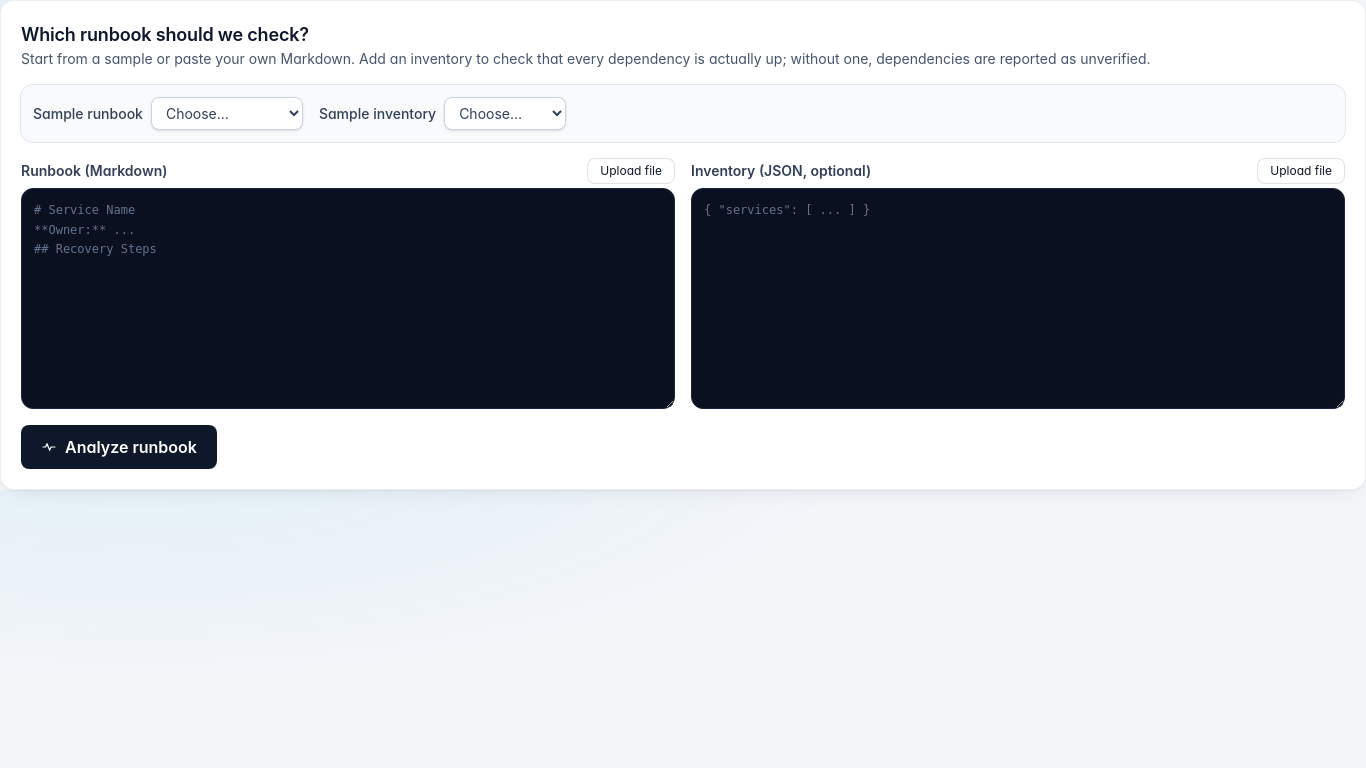
it: InputPanel › rejects an inventory that is not JSON
Type "# Svc" into the text box labelled "Runbook (Markdown)" at [348, 298], box [21,188,675,409]
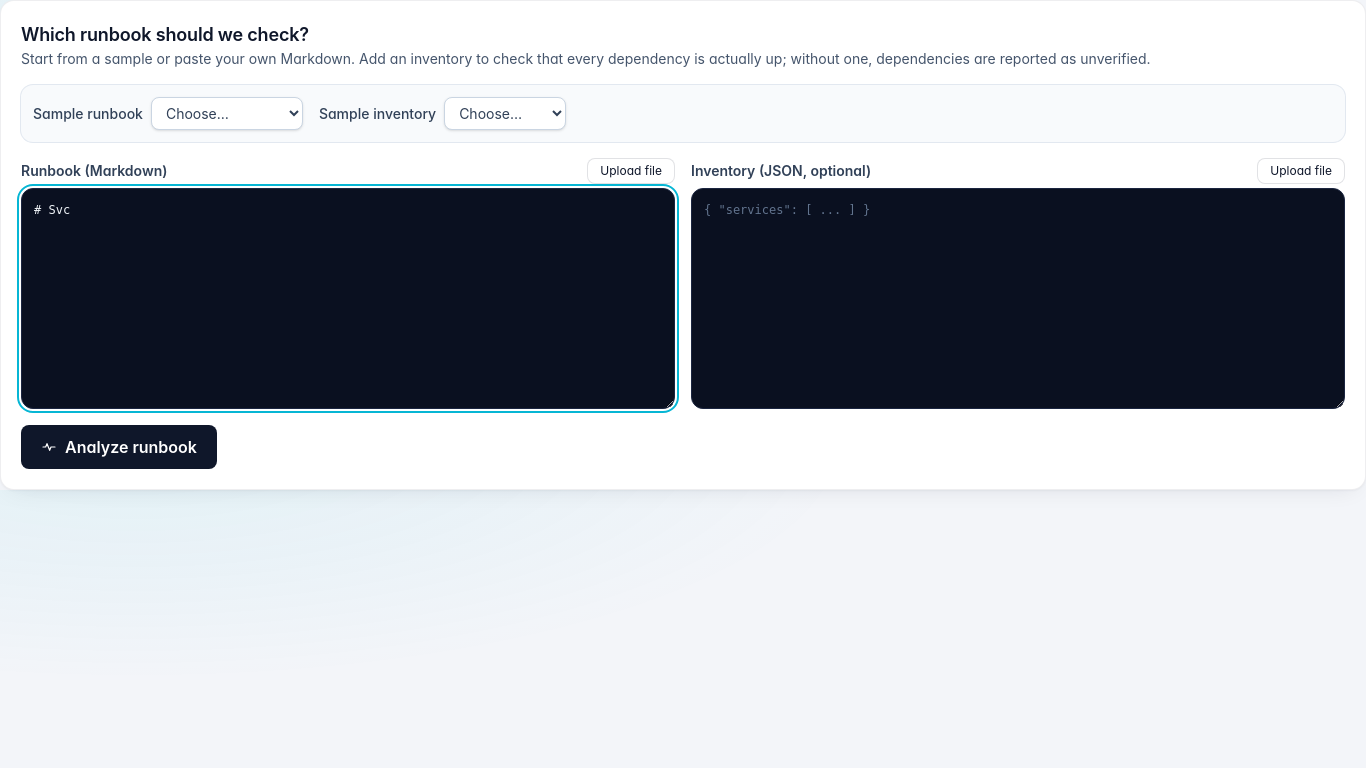
Type "not json" into the text box labelled "Inventory (JSON, optional)" at [1018, 298], box [691,188,1345,409]
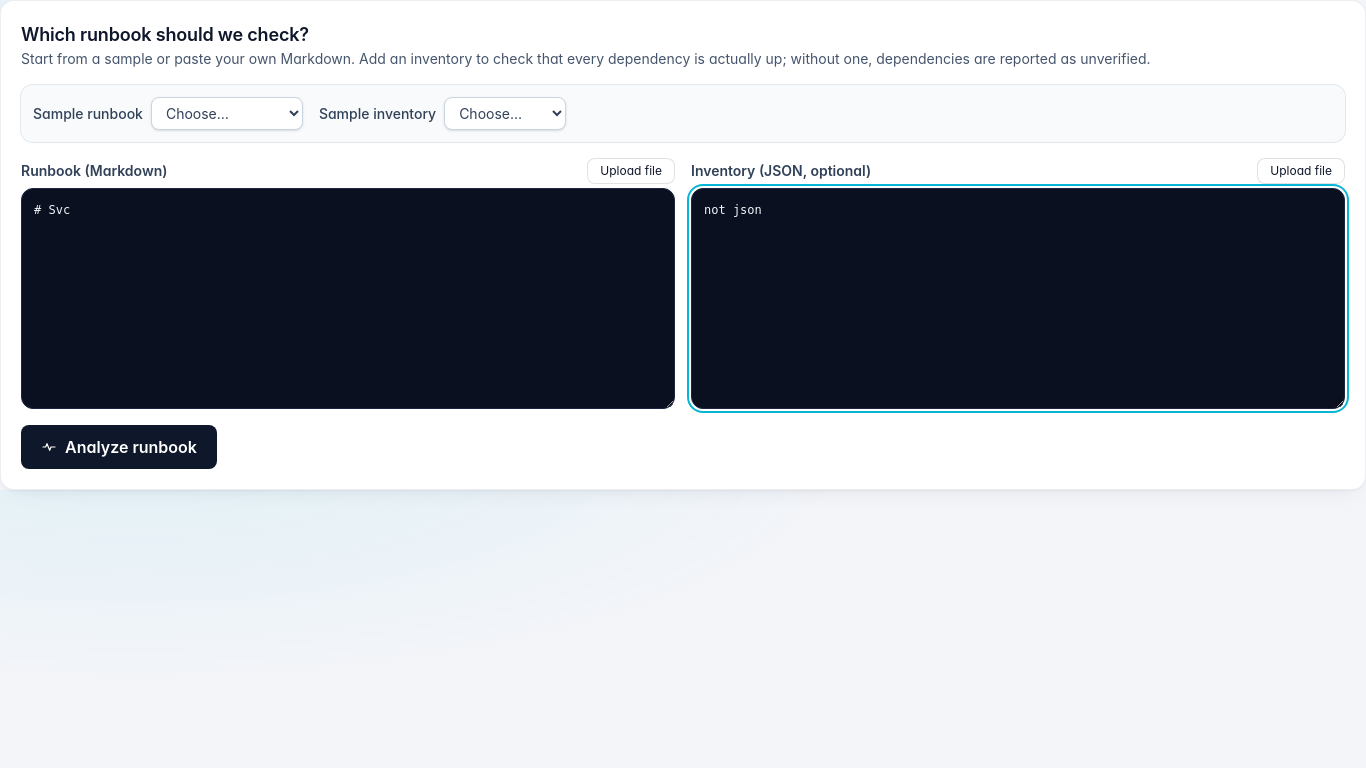
Click the button "Analyze runbook" at [119, 447], box [21,425,217,469]
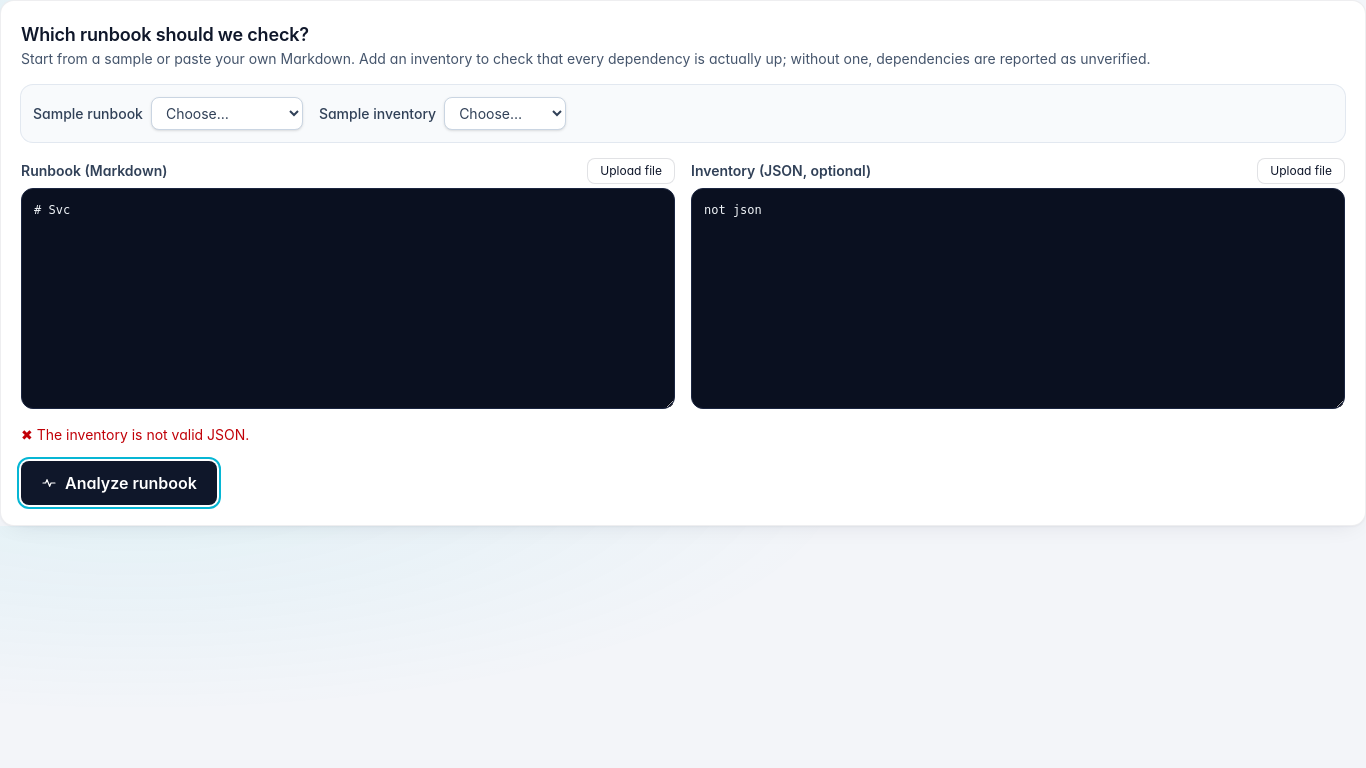
expect the message shows "The inventory is not valid JSON.": met, box [37,426,249,443]
